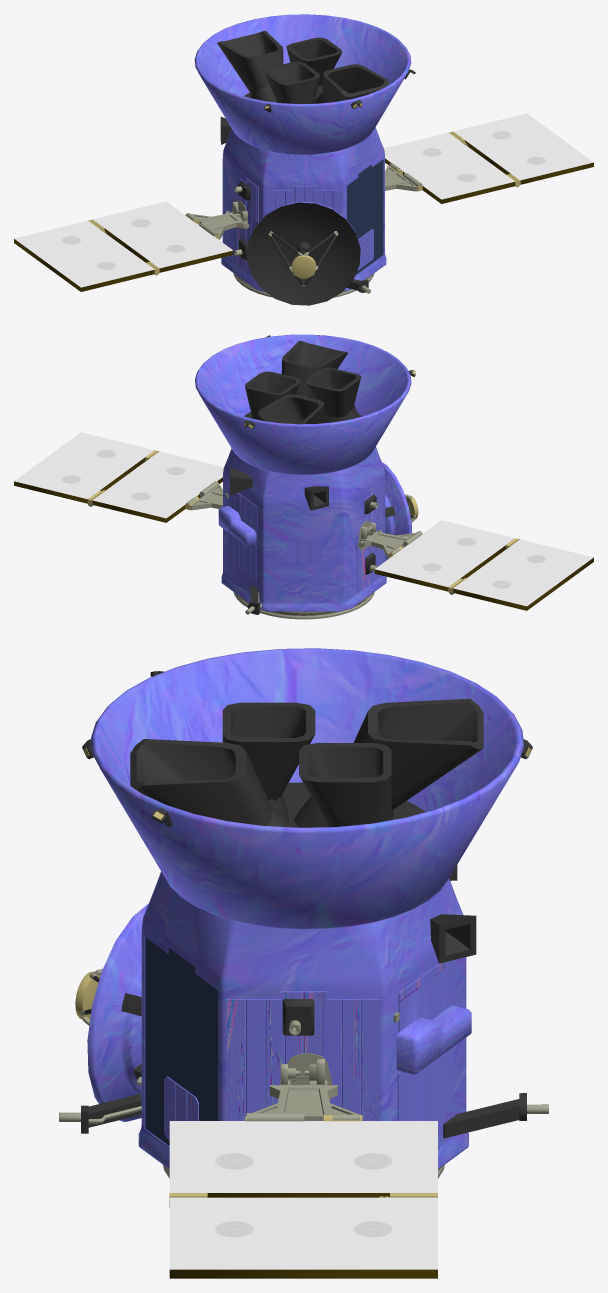
The model's file is tess.glb.
3 views of the same model, one above another, from view 1: azimuth 30°, elevation 25°; view 2: azimuth 150°, elevation 25°; view 3: azimuth 270°, elevation 25° (orthographic). The views are drawn at different scales.
Visible parts, largest first — view 1: solar (×2), shade, bus (×3), hga (×2), cams; view 2: bus (×3), solar (×2), shade, cams, hga; view 3: bus (×3), shade, solar (×2), cams, hga (×2).
Boxes of the visible parts, x1,y1,x2,y2 form: solar (×2): [14, 113, 593, 291]; shade: [194, 14, 411, 154]; bus (×3): [191, 69, 417, 297]; hga (×2): [247, 186, 360, 305]; cams: [217, 30, 389, 103]; bus (×3): [190, 335, 415, 619]; solar (×2): [14, 432, 593, 610]; shade: [195, 334, 411, 474]; cams: [244, 340, 362, 424]; hga: [382, 462, 412, 560]; bus (×3): [59, 671, 548, 1178]; shade: [91, 648, 523, 929]; solar (×2): [169, 1113, 437, 1278]; cams: [130, 698, 483, 827]; hga (×2): [75, 904, 148, 1121].
Bounding box in the file's own units: 7.39 × 3.1 × 3.06.
5 materials, 3 textured.
